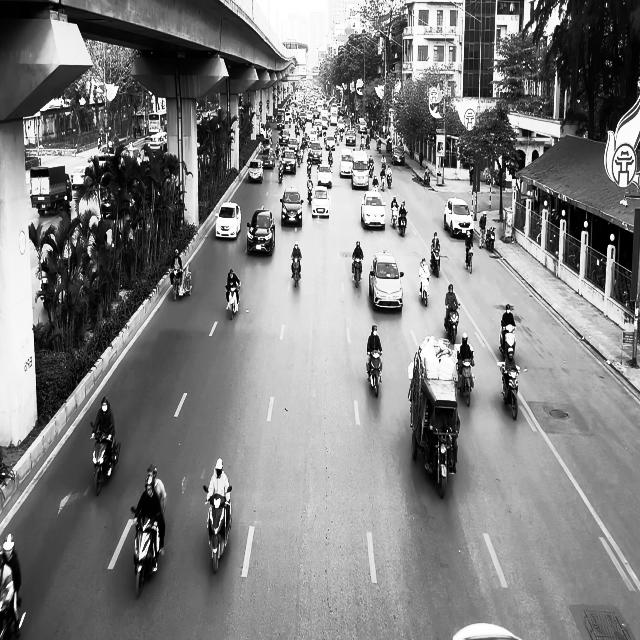car: (370, 250, 404, 312), (247, 208, 275, 255), (444, 197, 474, 238), (215, 202, 242, 240), (361, 191, 386, 229), (280, 188, 304, 226), (312, 185, 331, 218), (70, 165, 92, 189), (280, 148, 297, 174), (339, 150, 353, 178), (317, 162, 332, 188), (248, 159, 264, 183), (260, 147, 275, 169), (308, 142, 322, 163), (392, 145, 405, 165), (346, 129, 356, 146)
motorbike: (131, 506, 163, 598), (204, 485, 232, 573), (90, 421, 121, 496), (498, 361, 521, 419), (0, 594, 27, 639), (457, 355, 475, 406), (366, 349, 383, 397), (445, 302, 461, 344), (226, 284, 240, 320), (170, 268, 183, 300), (419, 272, 430, 306), (430, 244, 441, 276), (352, 256, 363, 287), (292, 256, 302, 287), (485, 226, 496, 252), (465, 245, 474, 273), (398, 211, 407, 236), (391, 206, 398, 228), (278, 162, 284, 183)
truck: (408, 335, 460, 498), (30, 164, 73, 216)
